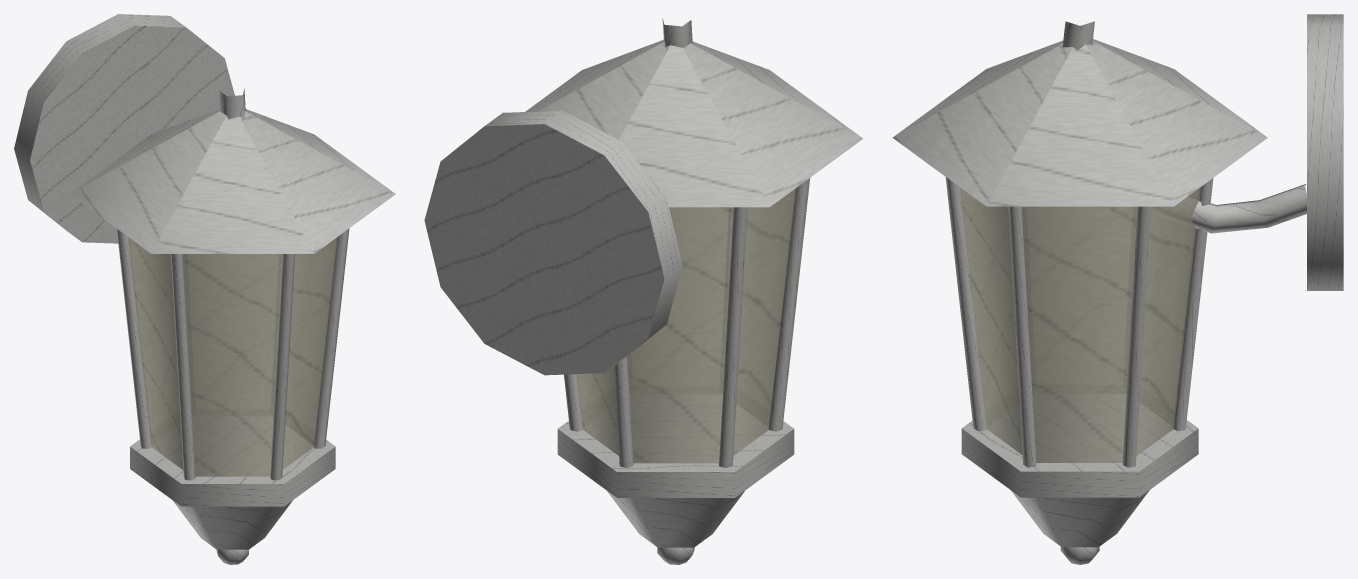
Rendered from pencil-corridor-sconce.glb.
3 renders of one model, left to right at view 1: azimuth 30°, elevation 25°; view 2: azimuth 150°, elevation 25°; view 3: azimuth 270°, elevation 25°, orthographic. The views are drawn at different scales.
Visible parts, largest first — view 1: Pencil_Frame, Glass_Panels; view 2: Pencil_Frame, Glass_Panels; view 3: Pencil_Frame, Glass_Panels.
Boxes of the visible parts, left/top/right/bottom form: Pencil_Frame: left=14, top=14, right=395, bottom=564; Glass_Panels: left=127, top=237, right=337, bottom=476; Pencil_Frame: left=424, top=18, right=863, bottom=564; Glass_Panels: left=576, top=188, right=796, bottom=463; Pencil_Frame: left=892, top=14, right=1343, bottom=564; Glass_Panels: left=960, top=187, right=1201, bottom=462.
Size of what is drawn, in the model's own units: 0.3984 by 0.735 by 0.5525.
2 materials, 2 textured.
